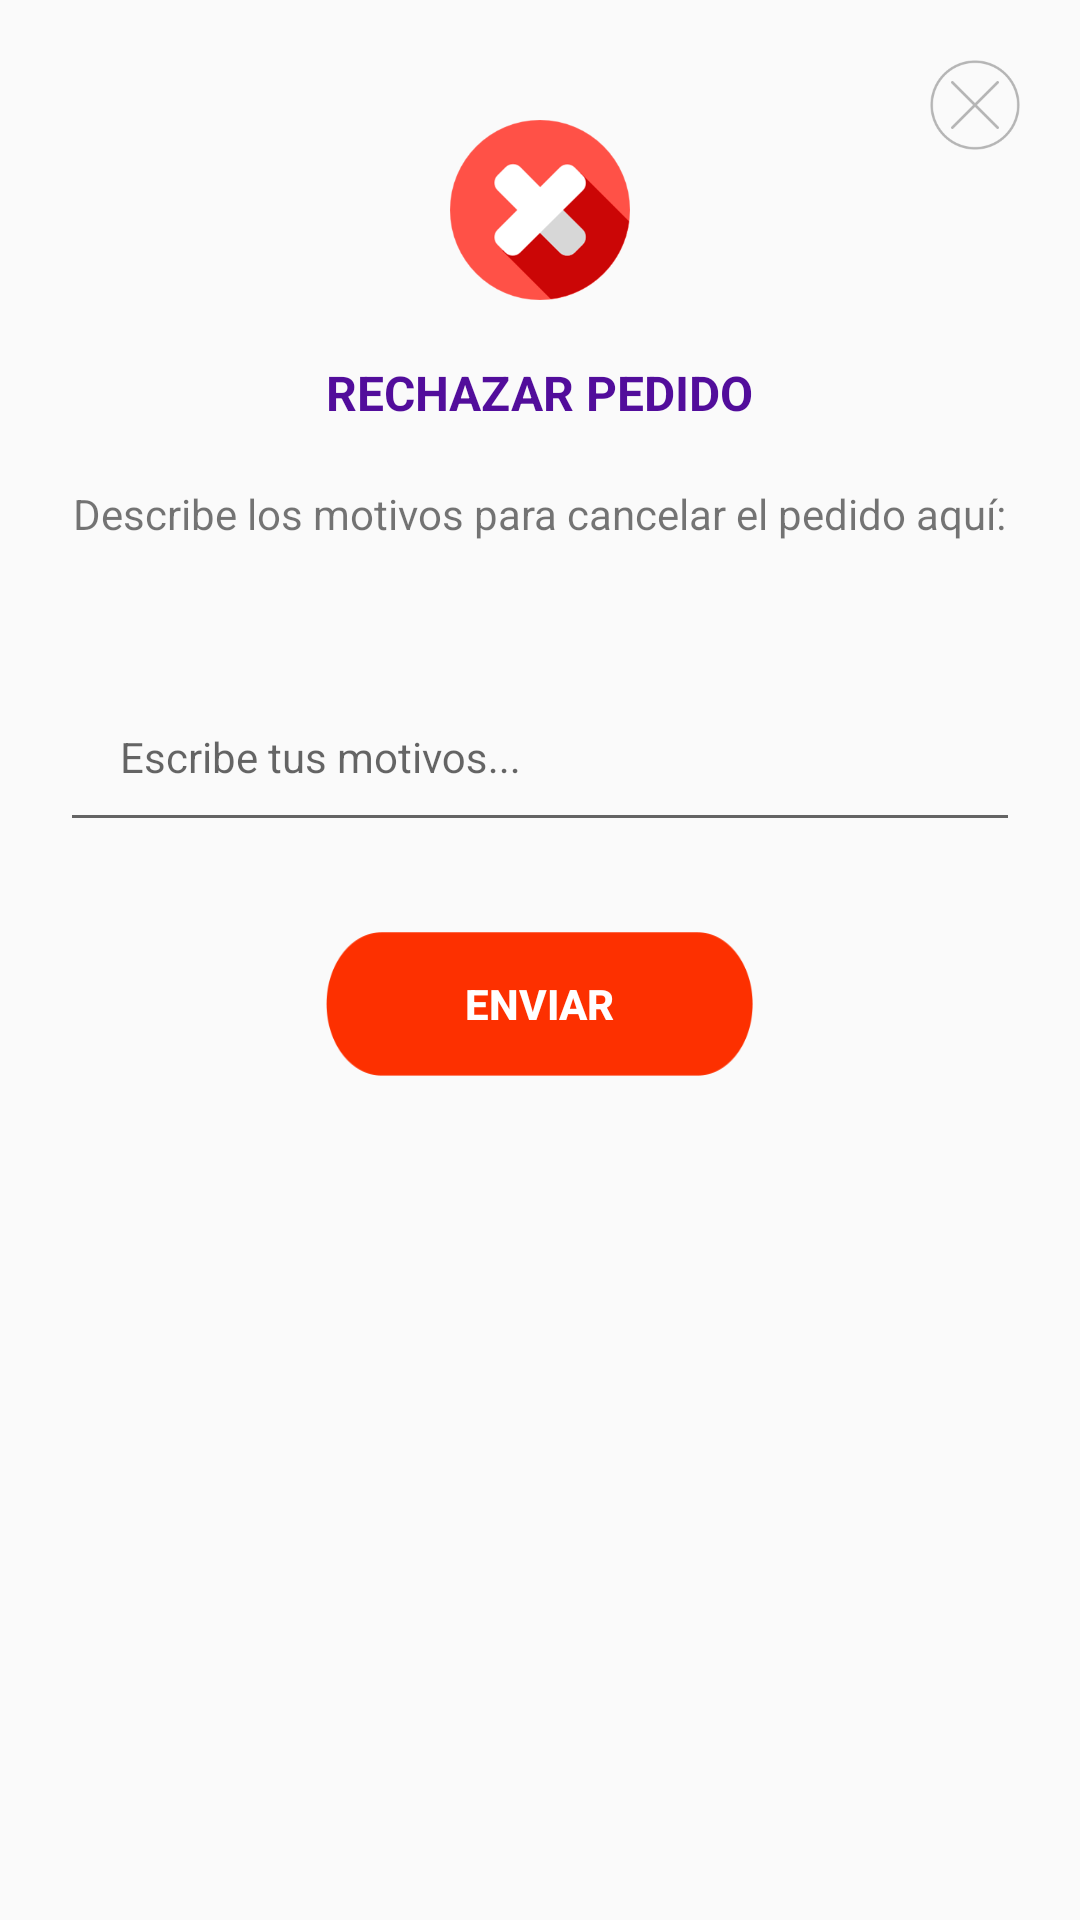

Point at icon controls on the screen. Image size 1080*1920, points as [x,y].
cancel: [540,210]
close: [975,105]
